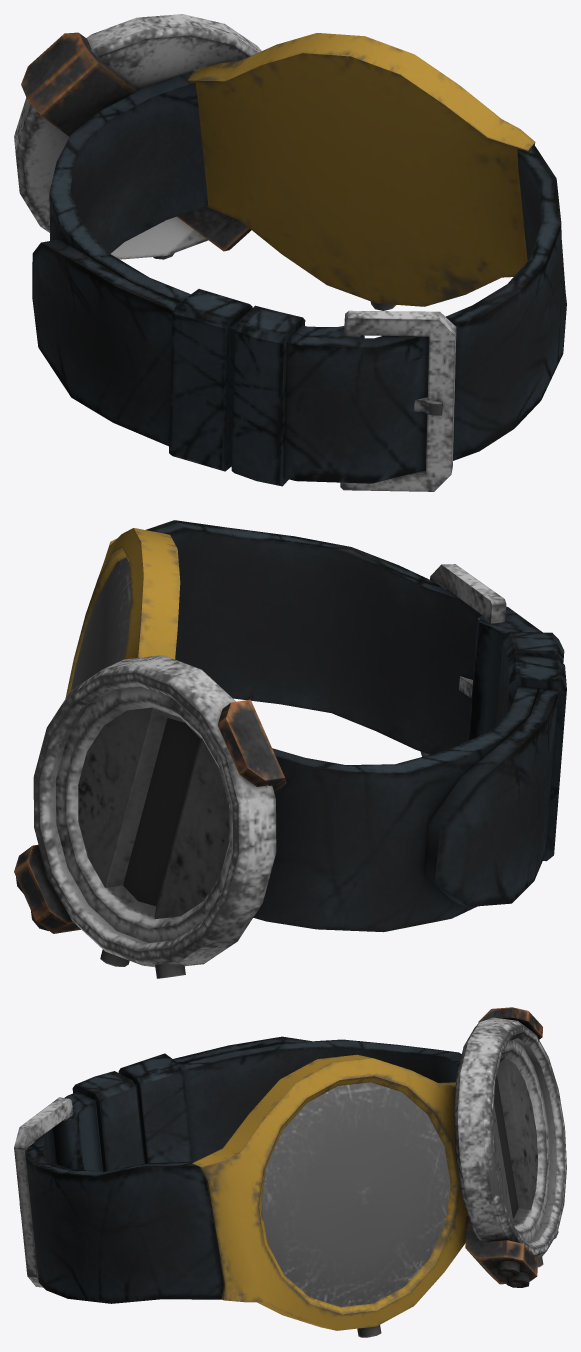
File: Watch.FBX
The picture shows the model from 3 angles, top to bottom: view 1: azimuth 30°, elevation 25°; view 2: azimuth 150°, elevation 25°; view 3: azimuth 270°, elevation 25°; orthographic projection. The views are drawn at different scales.
Visible parts, largest first — view 1: Watch; view 2: Watch; view 3: Watch.
Boxes of the visible parts, <box> form: Watch: <box>14,14,566,491</box>; Watch: <box>14,520,566,978</box>; Watch: <box>14,1007,566,1337</box>.
Size of the model in its own units: 7.36 by 4.9 by 9.19.
